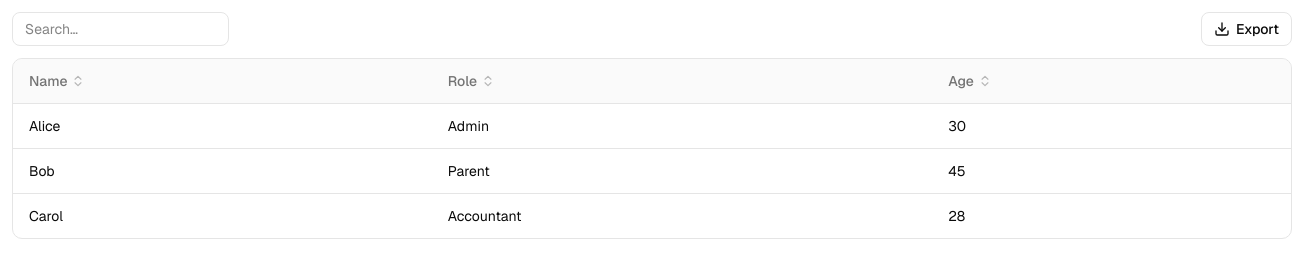
Test: DataTable › shows empty state message when no results match filter
Type "zzz-no-match" into the search field. click: [120, 29]
box: [12,12,229,46]
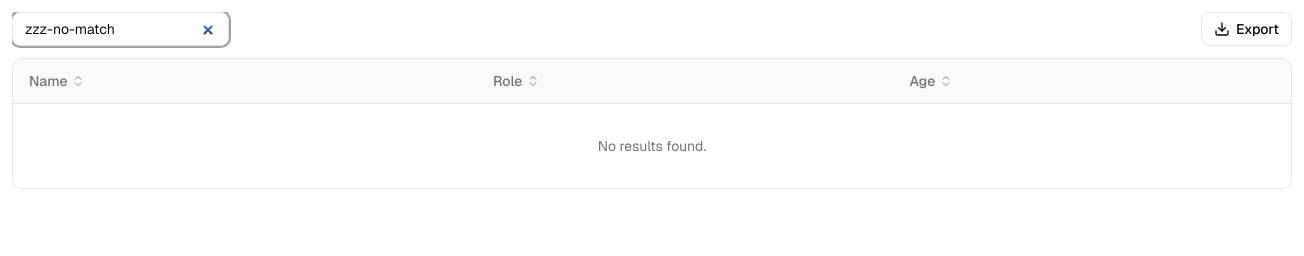
expect the text "No results found." is shown: met, box [13,104,1291,188]
